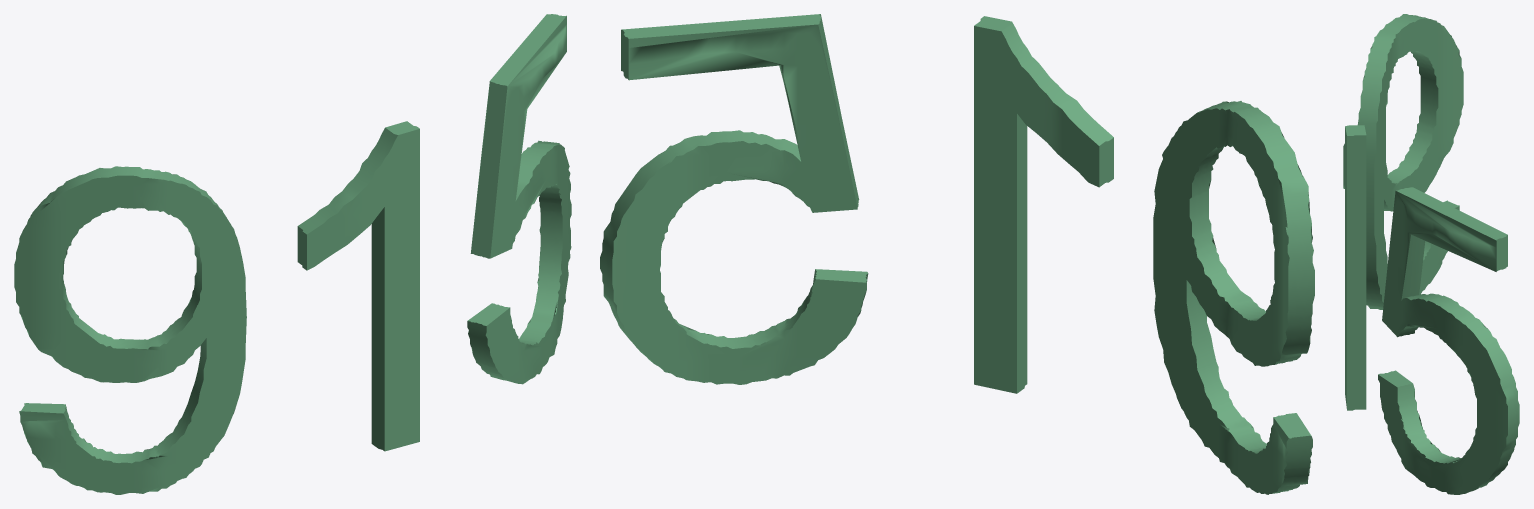
Rendered from port_15.obj.
The picture shows the model from 3 angles, left to right: view 1: azimuth 30°, elevation 25°; view 2: azimuth 150°, elevation 25°; view 3: azimuth 270°, elevation 25°; orthographic projection. The views are drawn at different scales.
Parts seen in each view (by area): view 1: Text01; view 2: Text01; view 3: Text01.
Part boxes in pixels (box(x1,y1,x2,y2)): Text01: box(14, 14, 571, 494); Text01: box(600, 14, 1314, 494); Text01: box(1343, 14, 1519, 494).
Bounding box in the file's own units: 3.08 × 1.59 × 0.91.
